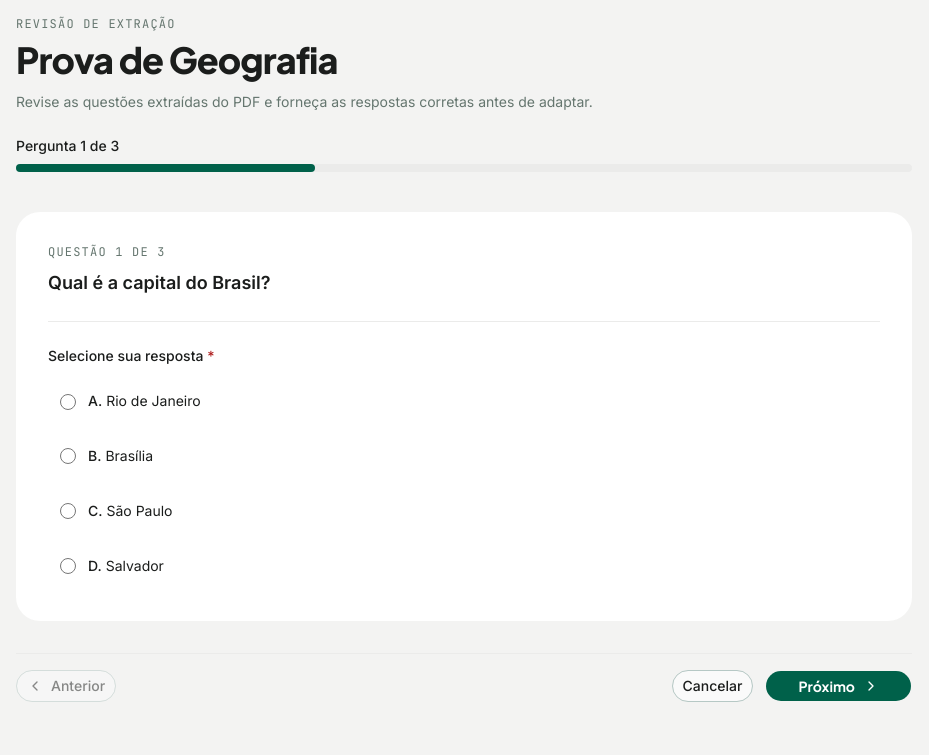
it: ExtractionForm › Form Validation › should show validation error when trying to navigate without answering
Click the button "Próximo" at point(839, 686), box [765,670,912,702]
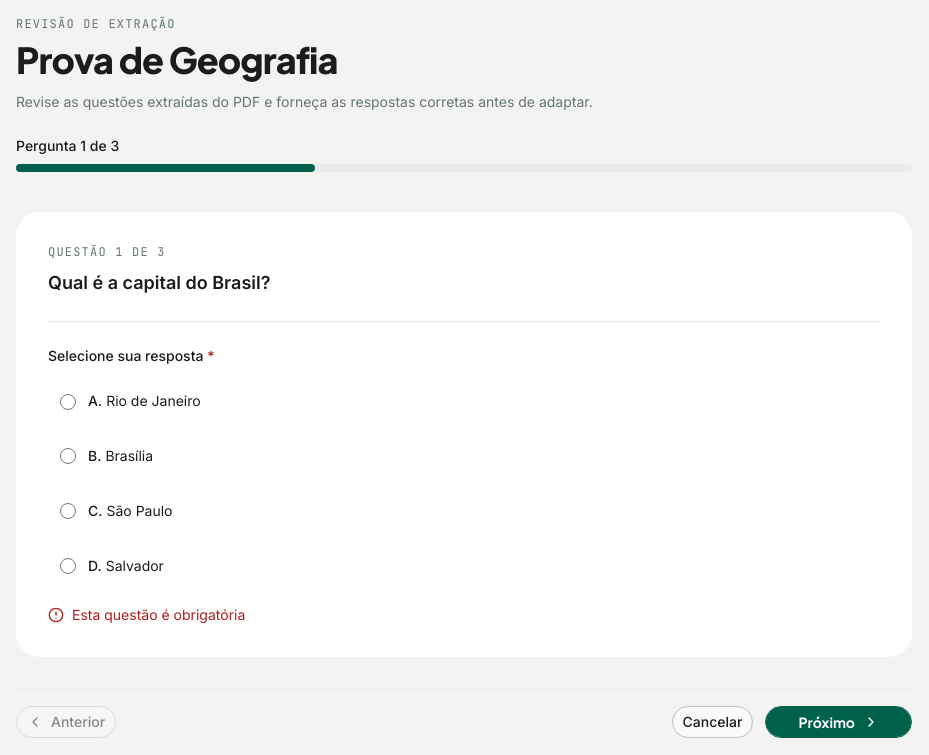
Expected: the text "Pergunta 1 de 3" is shown, [16,137,119,154]
Now the text "Esta questão é obrigatória" is shown, box [48,606,245,623]
